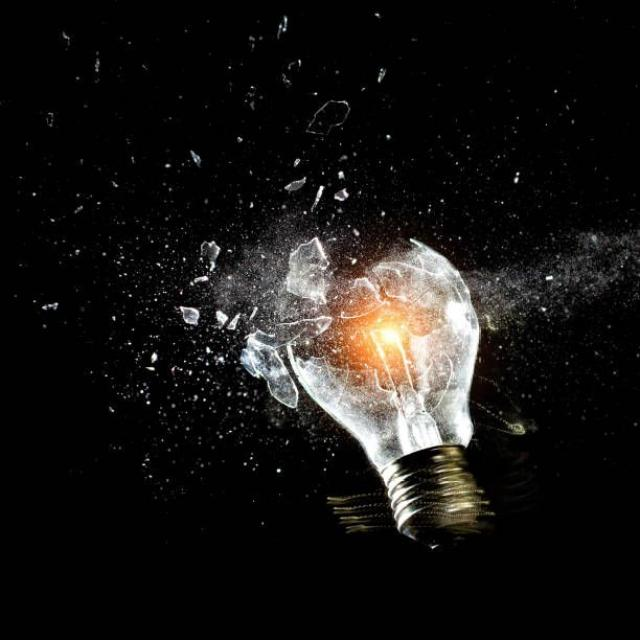electronic: (240, 233, 501, 550)
